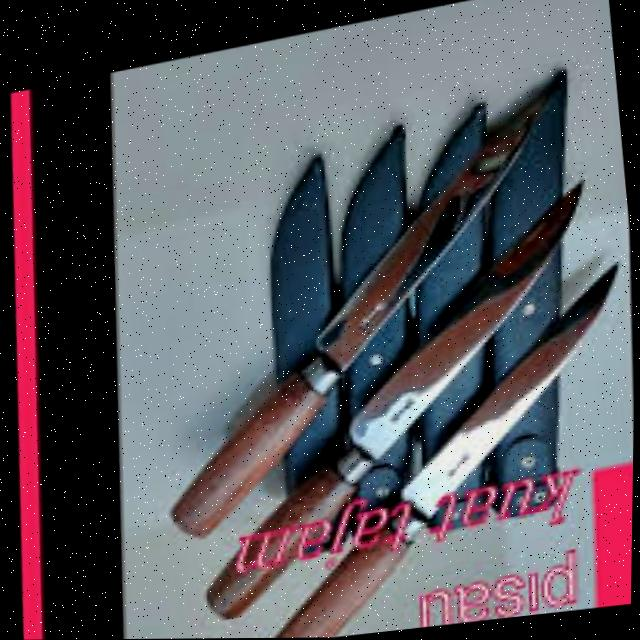knife: (167, 183, 623, 622), (131, 110, 575, 543), (233, 259, 637, 639)
